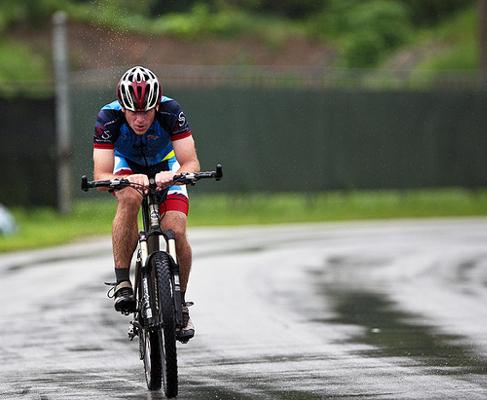person: (93, 65, 200, 344)
